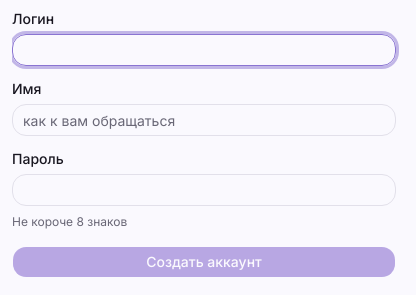
Test: RegisterForm › длина пароля считается в знаках, а не в байтах
In the field labelled "Логин": (204, 50) [12,34,396,66], type "vadim"
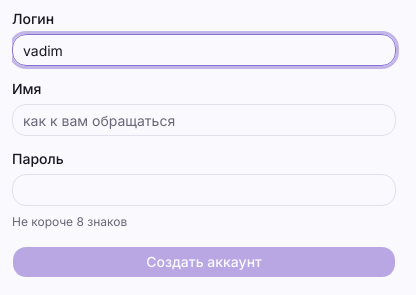
In the password field labelled "Пароль": (204, 190) [12,174,396,206], type "паролик"
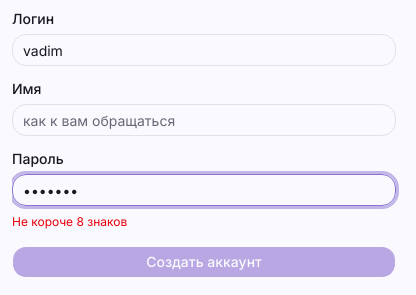
Expected: the button "Создать аккаунт" is disabled, [12,246,396,278]
In the password field labelled "Пароль": (204, 190) [12,174,396,206], type "и"
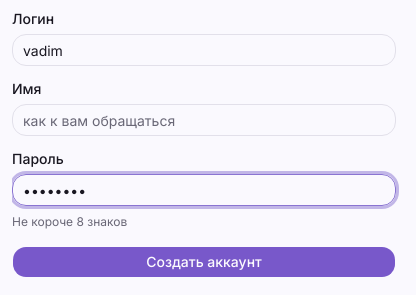
Expected: the button "Создать аккаунт" is enabled, [12,246,396,278]
